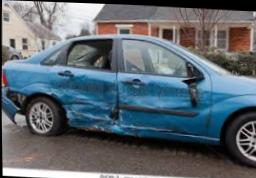Bumper: (1, 87, 24, 125)
Door: (55, 38, 117, 124)
